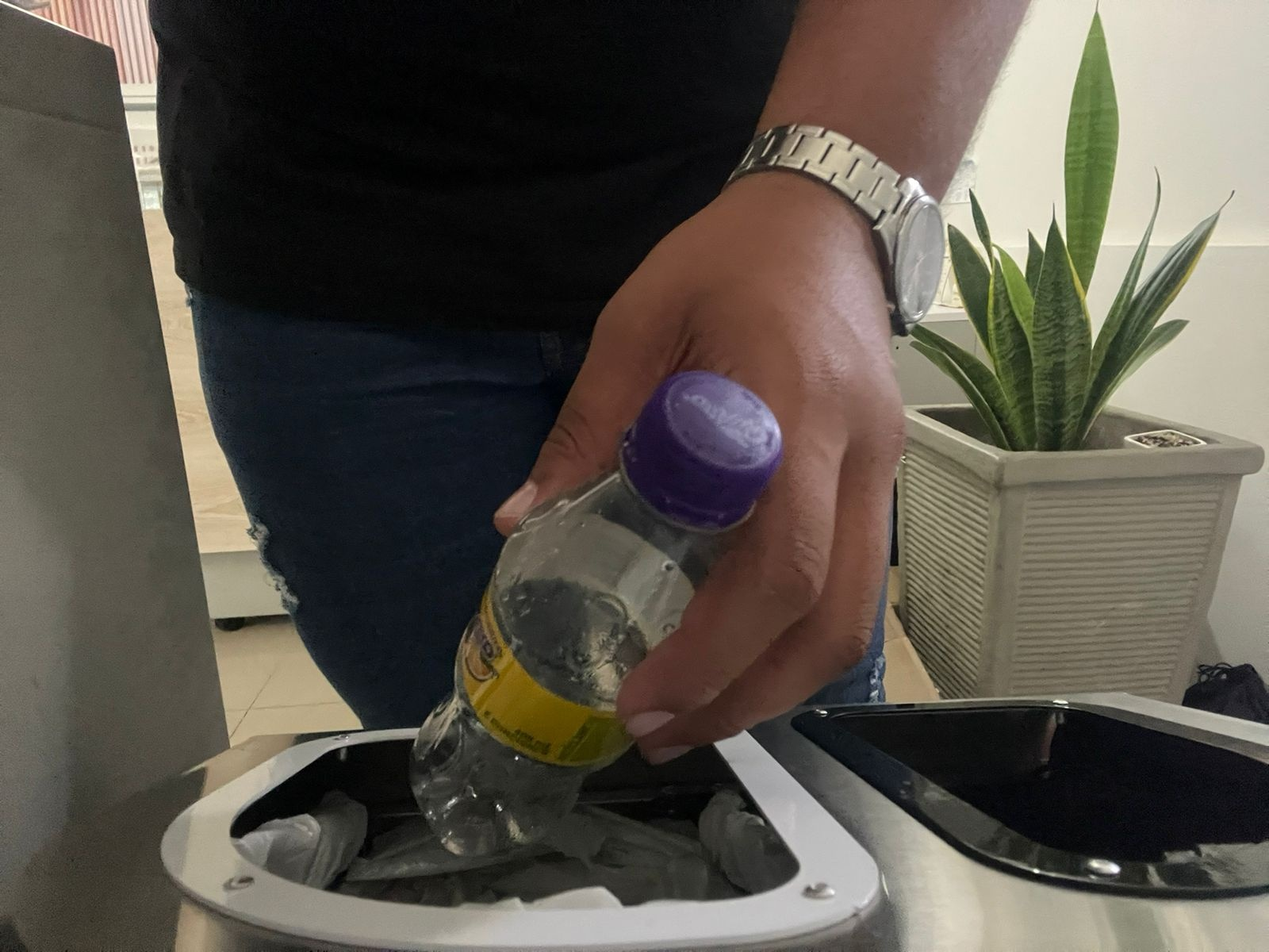Plastico: (408, 374, 783, 859)
